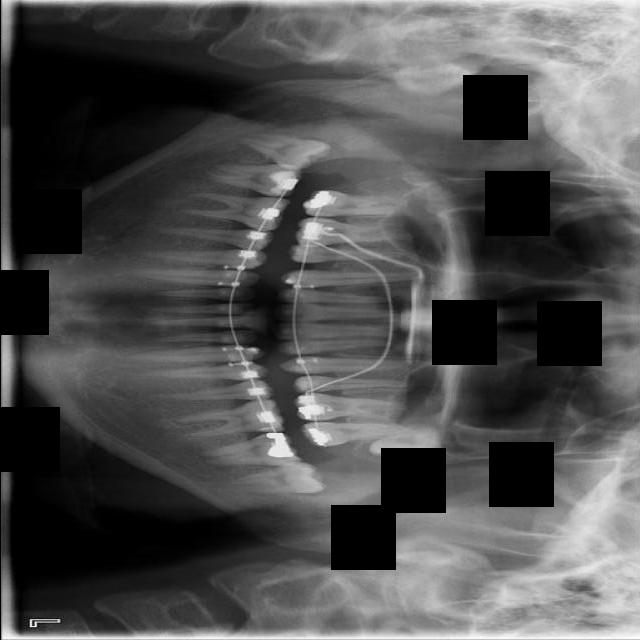52: (251, 422, 304, 478), (251, 161, 303, 199)
73: (39, 600, 50, 606)
BioHorizons Implant: (298, 421, 411, 447)
BioLife Implant: (365, 415, 448, 483)
Biomet 3i Implant: (228, 461, 328, 495)
Blue Sky Bio Implant: (196, 432, 302, 466)
Caries: (301, 190, 421, 217)
Implant: (203, 162, 302, 198)
Keystone Dental Implant: (233, 128, 331, 175)
